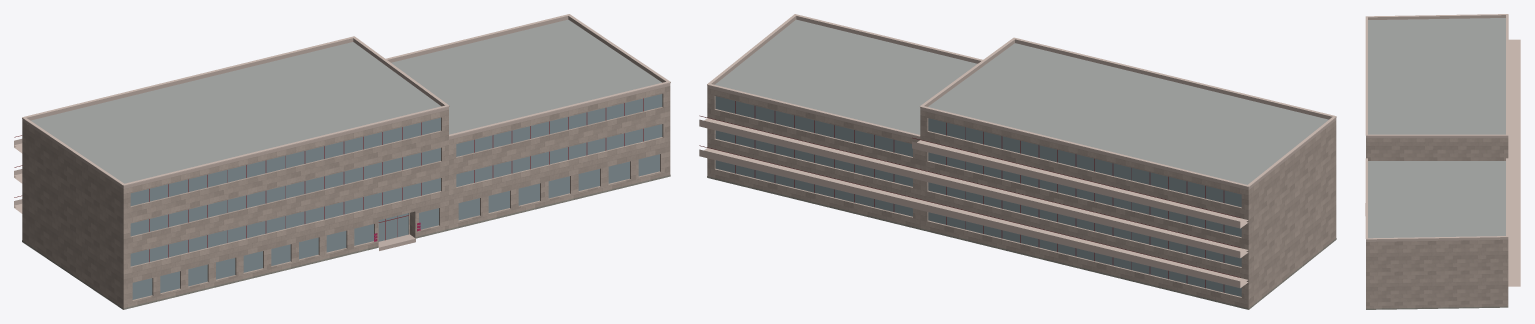
3 views of the same model, side by side, from view 1: azimuth 30°, elevation 25°; view 2: azimuth 150°, elevation 25°; view 3: azimuth 270°, elevation 25° (orthographic). The views are drawn at different scales.
Visible parts, largest first — view 1: osm136188882__wall, osm136188882__roof, osm136188882__glass, osm136188882__parapet, osm136188882__trim, osm136188882__base, osm136188882__frame; view 2: osm136188882__roof, osm136188882__wall, osm136188882__trim, osm136188882__glass, osm136188882__parapet, osm136188882__frame, osm136188882__base; view 3: osm136188882__roof, osm136188882__wall, osm136188882__trim, osm136188882__parapet, osm136188882__base.
Part boxes in pixels (x1=…): osm136188882__wall: x1=22, y1=86, x2=670, y2=309; osm136188882__roof: x1=31, y1=19, x2=661, y2=183; osm136188882__glass: x1=130, y1=94, x2=662, y2=299; osm136188882__parapet: x1=22, y1=16, x2=670, y2=188; osm136188882__trim: x1=14, y1=14, x2=670, y2=213; osm136188882__base: x1=22, y1=175, x2=670, y2=309; osm136188882__frame: x1=14, y1=98, x2=643, y2=262; osm136188882__roof: x1=715, y1=19, x2=1328, y2=309; osm136188882__wall: x1=707, y1=88, x2=1336, y2=309; osm136188882__trim: x1=699, y1=14, x2=1336, y2=288; osm136188882__glass: x1=715, y1=96, x2=1241, y2=296; osm136188882__parapet: x1=707, y1=16, x2=1336, y2=190; osm136188882__frame: x1=699, y1=101, x2=1240, y2=292; osm136188882__base: x1=707, y1=176, x2=1336, y2=309; osm136188882__roof: x1=1368, y1=18, x2=1505, y2=238; osm136188882__wall: x1=1366, y1=138, x2=1508, y2=308; osm136188882__trim: x1=1365, y1=14, x2=1520, y2=286; osm136188882__parapet: x1=1366, y1=15, x2=1508, y2=241; osm136188882__base: x1=1366, y1=306, x2=1508, y2=309.
Size of the model in its own units: 69.16 by 15.25 by 22.4.
Materials: 10 (2 with a texture image).
